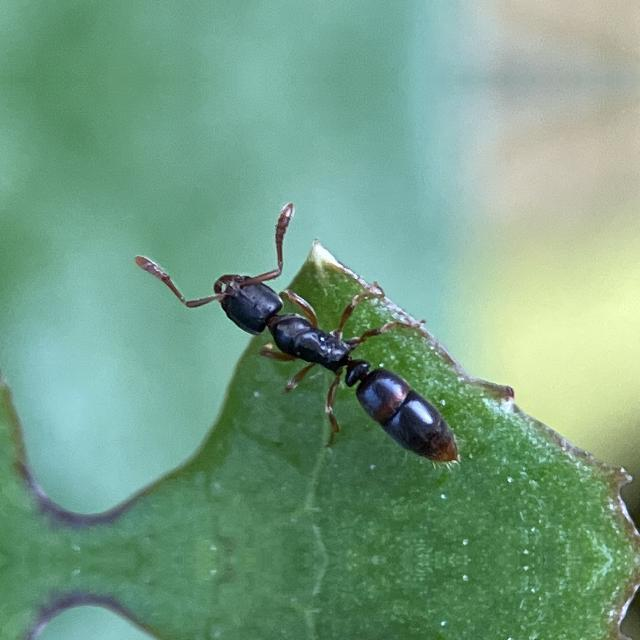Ponera: (158, 220, 488, 476)
